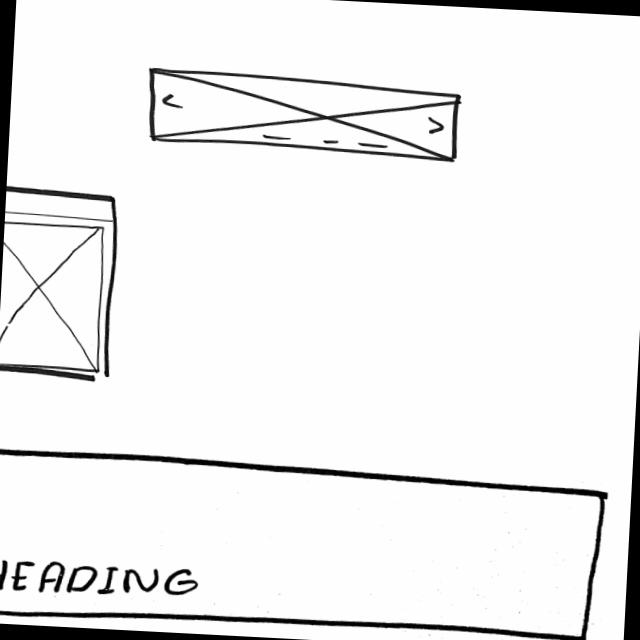container: (1, 447, 607, 640), (1, 185, 122, 382)
image: (144, 65, 467, 167), (1, 220, 109, 372)
label: (1, 557, 203, 604)
